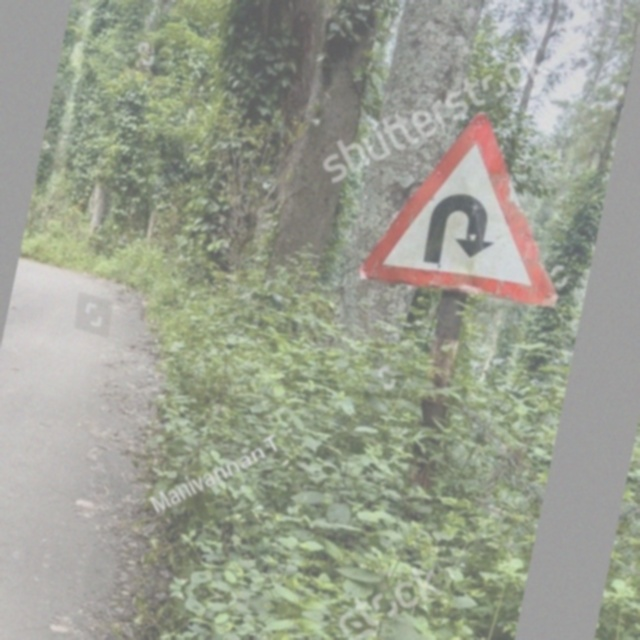Right_Hair_Pin_Bend: (364, 96, 588, 311)
